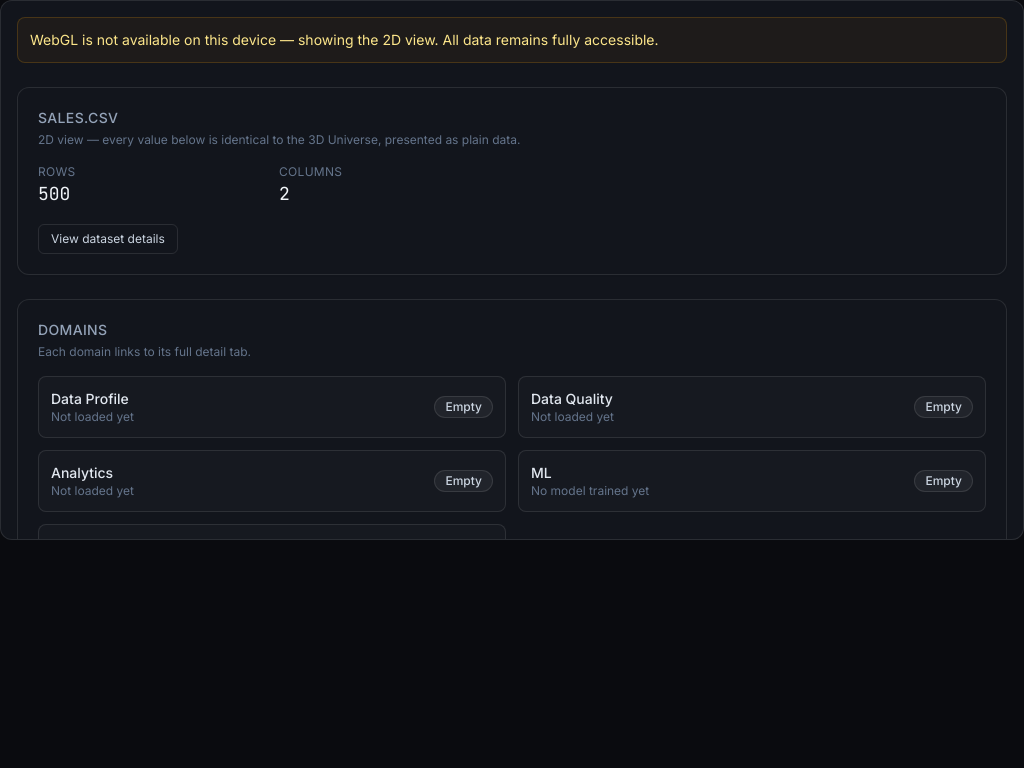
Test: UniversePage › selecting the dataset core opens the DatasetPanel
Click the button "View dataset details" at (108, 239), box top-left (38, 224), bottom-right (178, 254)
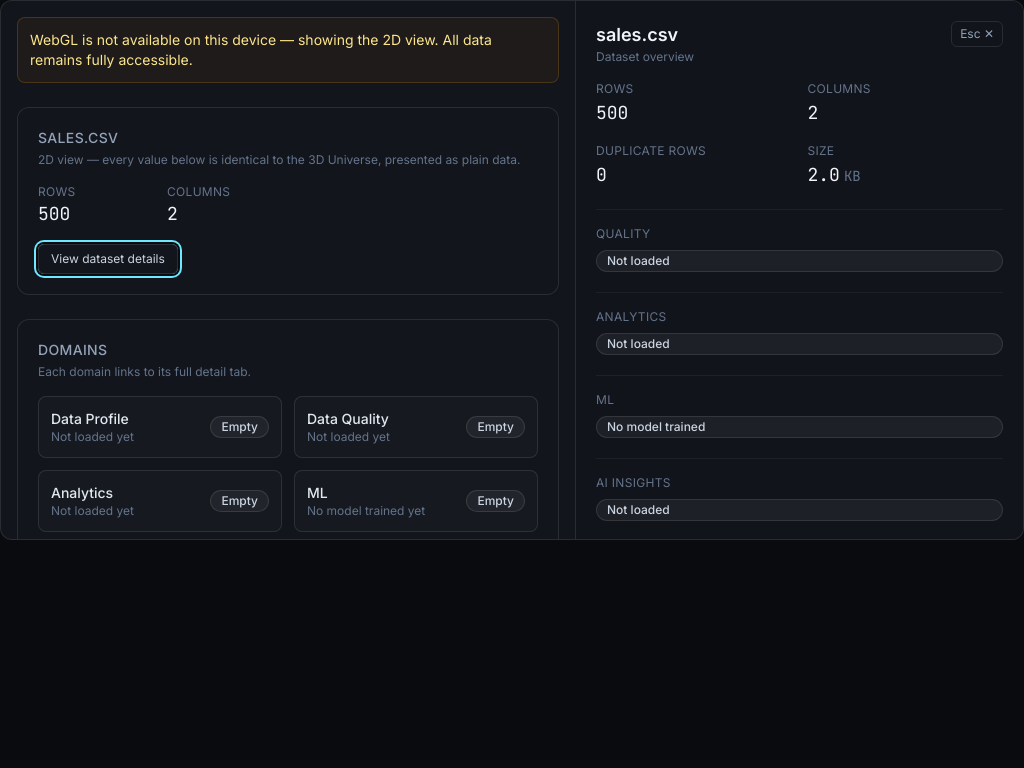
Check: the element "sales.csv" is shown, box top-left (575, 1), bottom-right (1023, 539)
